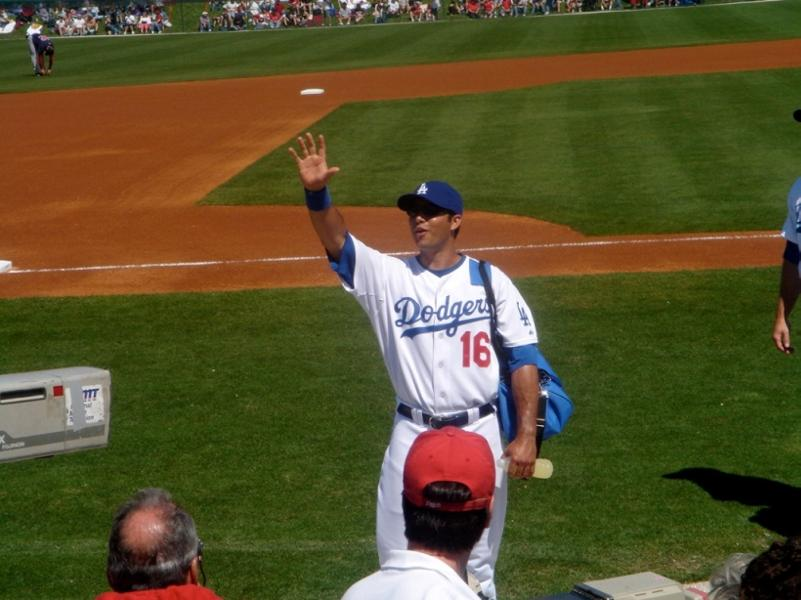person: (287, 133, 541, 600)
